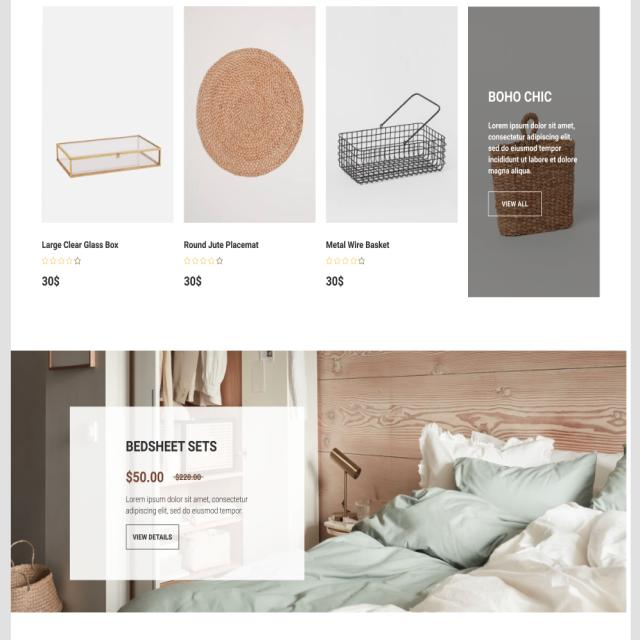FooterFullWidthBanner: (9, 349, 629, 614)
